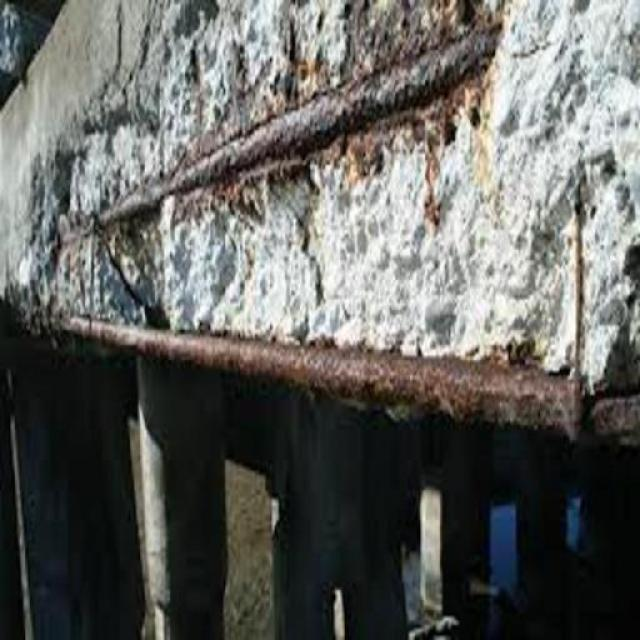D0w0: (0, 0, 639, 449)
